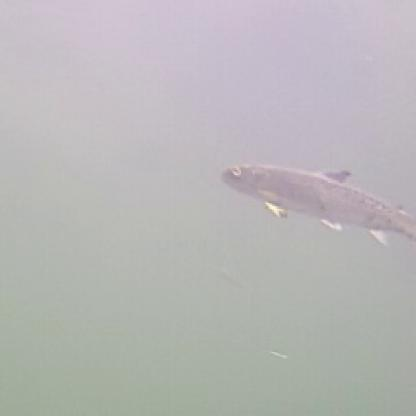salmon: (213, 158, 414, 246)
